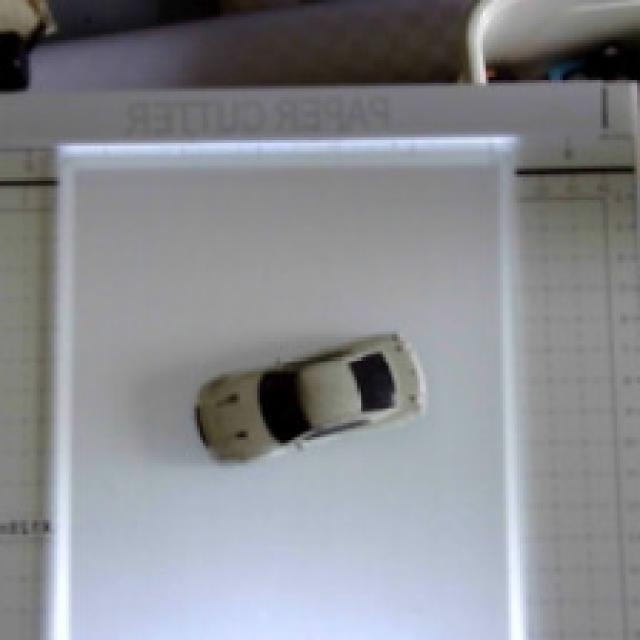Grey Car: (158, 298, 461, 514)
